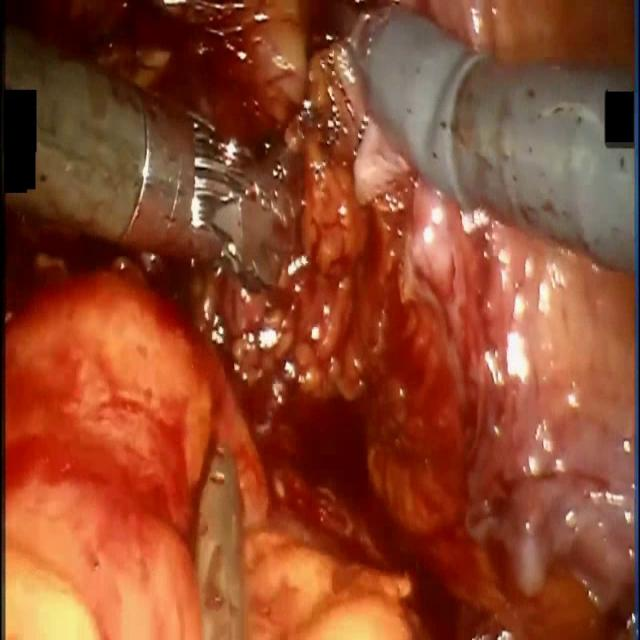surgical-area: (0, 0, 636, 639)
surgical-tool: (0, 0, 294, 284), (338, 1, 638, 276)
